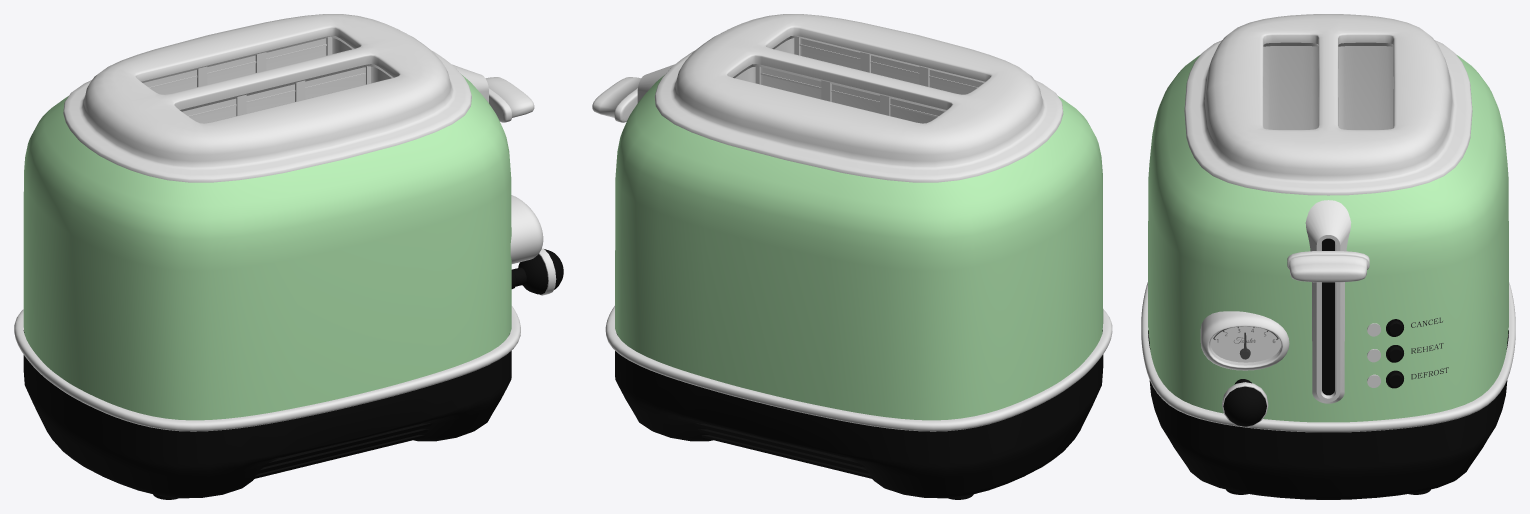
File: low_poly_toaster_green.glb
3 views of the same model, side by side, from view 1: azimuth 30°, elevation 25°; view 2: azimuth 150°, elevation 25°; view 3: azimuth 270°, elevation 25° (orthographic). The views are drawn at different scales.
Visible parts, largest first — view 1: Cube, Cube.001, Cube.013, Sphere, Cube.010, Cube.008; view 2: Cube, Cube.001, Cube.013, Cube.008; view 3: Cube, Cylinder, Cube.001, Cube.010, Cube.008, Cube.012, Plane.001, Sphere, Cylinder.002.
Part boxes in pixels (box(x1,y1,x2,y2)): Cube: box(23, 14, 511, 498); Cube.001: box(14, 306, 520, 431); Cube.013: box(253, 423, 432, 479); Sphere: box(511, 248, 563, 295); Cube.010: box(510, 195, 543, 263); Cube.008: box(485, 77, 534, 122); Cube: box(615, 14, 1103, 498); Cube.001: box(605, 306, 1112, 431); Cube.013: box(694, 423, 873, 479); Cube.008: box(592, 77, 640, 122); Cube: box(1148, 14, 1508, 499); Cylinder: box(1305, 200, 1351, 403); Cube.001: box(1141, 282, 1515, 432); Cube.010: box(1200, 311, 1289, 370); Cube.008: box(1287, 251, 1369, 282); Cube.012: box(1209, 326, 1281, 365); Plane.001: box(1210, 326, 1281, 362); Sphere: box(1222, 379, 1268, 426); Cylinder.002: box(1367, 319, 1403, 388).
Bounding box in the file's own units: 3.87 × 2.79 × 2.79.
6 materials, 1 textured.
